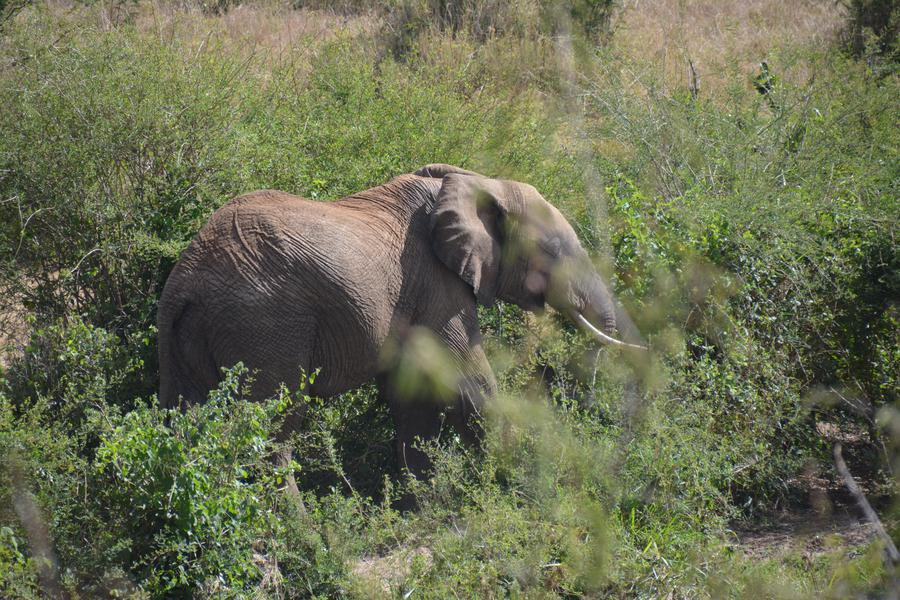elephant: (156, 184, 634, 412)
